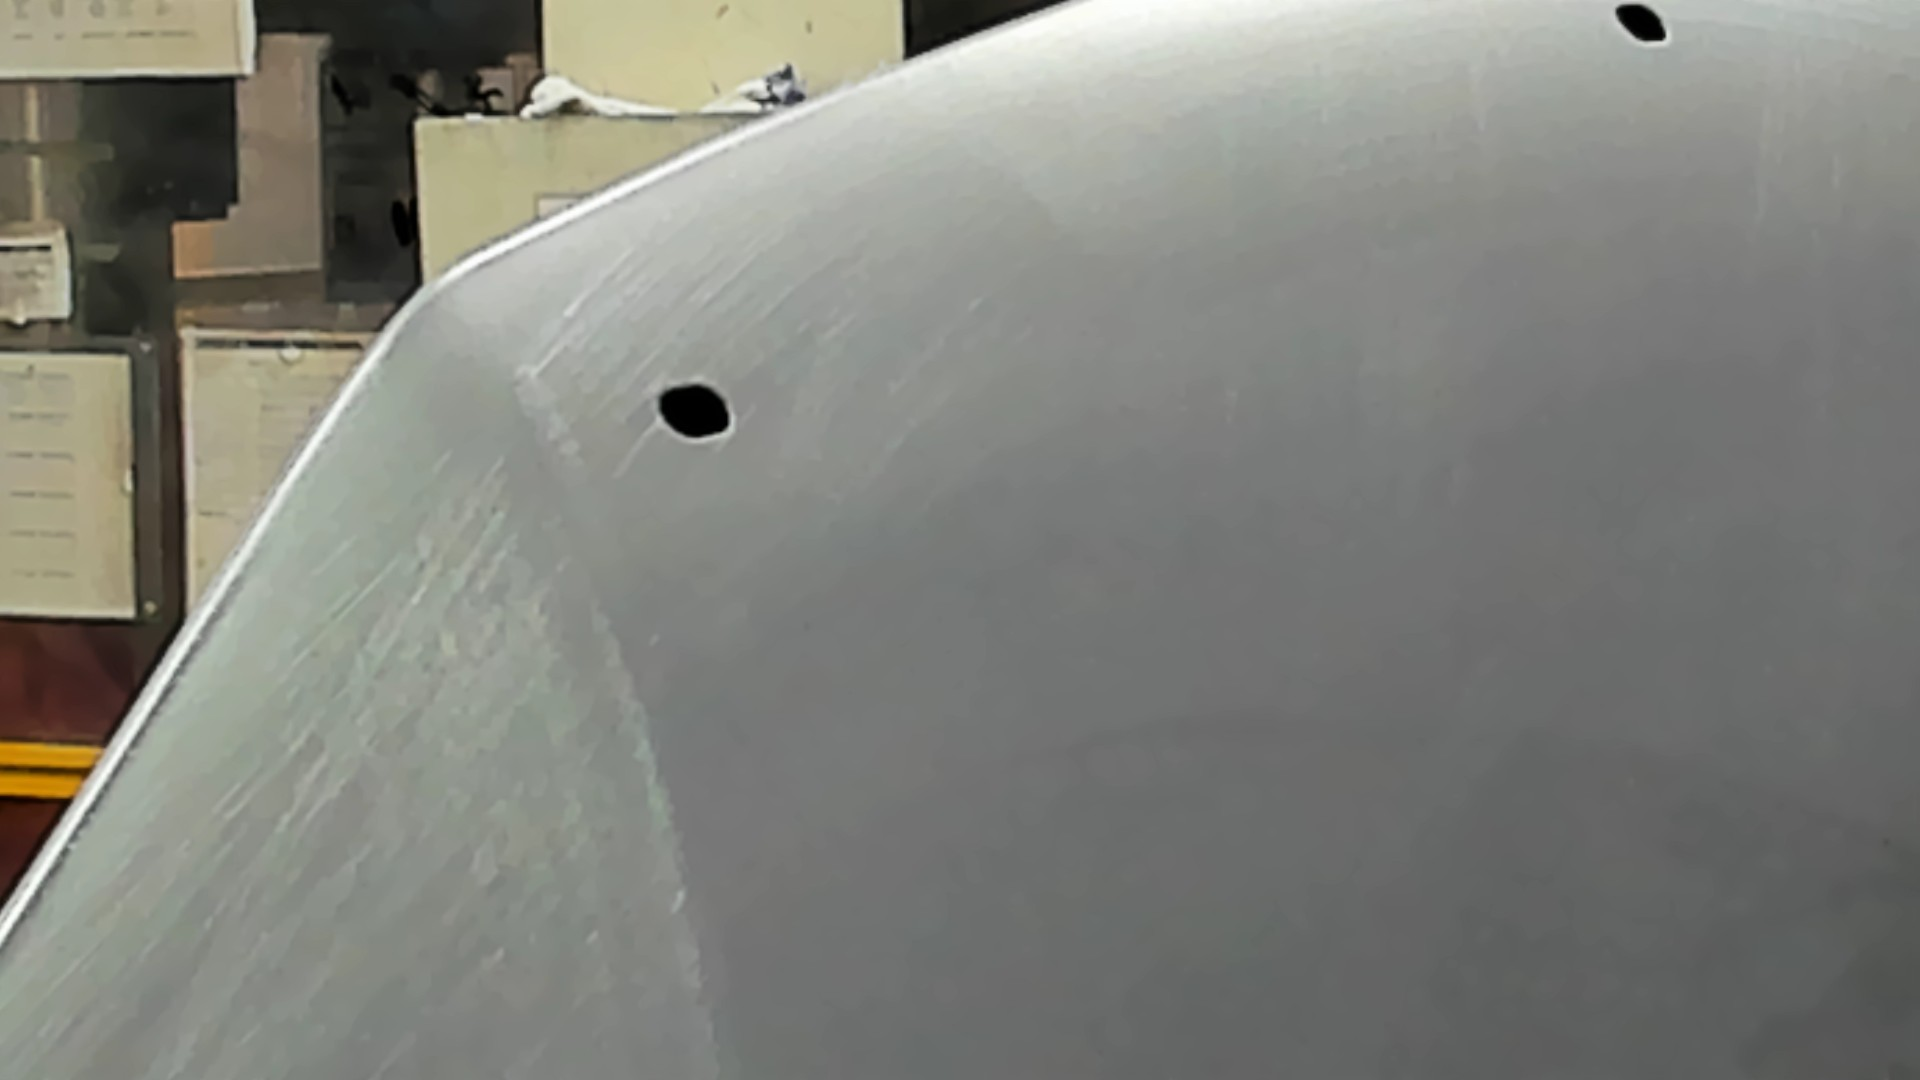amorfo: (654, 377, 738, 447), (1610, 1, 1677, 54)
capo: (840, 169, 1920, 1080)
